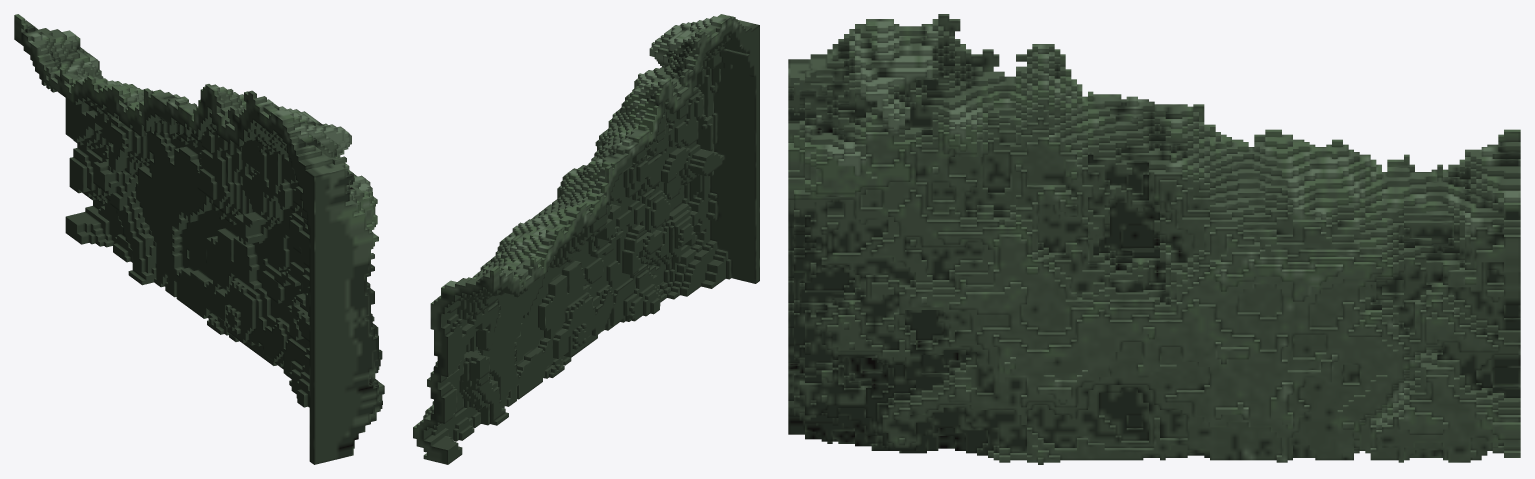
Rendered from treeline01-14-15r.fbx.
The picture shows the model from 3 angles, left to right: view 1: azimuth 30°, elevation 25°; view 2: azimuth 150°, elevation 25°; view 3: azimuth 270°, elevation 25°; orthographic projection. The views are drawn at different scales.
Parts seen in each view (by area): view 1: treeline01-14-15r; view 2: treeline01-14-15r; view 3: treeline01-14-15r.
Boxes of the visible parts, <box> form: treeline01-14-15r: <box>14,14,384,464</box>; treeline01-14-15r: <box>413,14,759,464</box>; treeline01-14-15r: <box>788,14,1520,464</box>.
Bounding box in the file's own units: 23 × 79 × 132.
